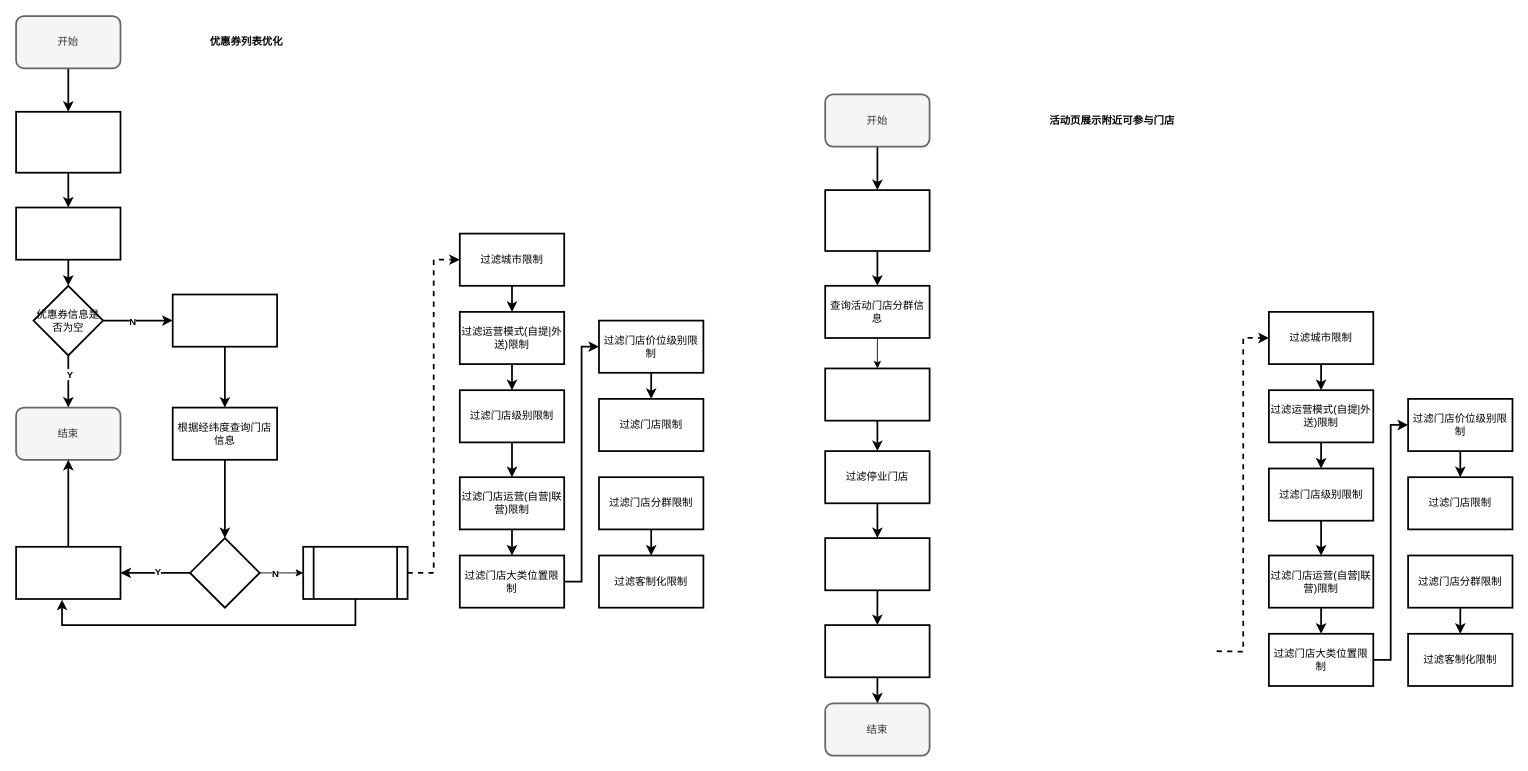
Image size: 1528x771. Some labels were removed from this diagram. The shapes that lost their labels are listed below. From the top down, each one's box as (x1, y1, x2, y2) in pixels, then its label:
(15, 110, 121, 173): 获取用户信息
(15, 206, 121, 260): 获取优惠券列表
(824, 189, 930, 251): 根据经纬度获取城市信息
(171, 293, 278, 347): 查询门店配置方案
(824, 367, 930, 421): 根据城市过滤活动门店信息
(15, 545, 121, 599): 构建优惠券模板信息
(189, 537, 260, 608): 门店信息为空
(302, 545, 408, 599): 优惠券匹配门店
(824, 537, 930, 591): 计算门店与经纬度距离并排序
(824, 624, 930, 678): 按照门店开闭点情况排序，取前三
